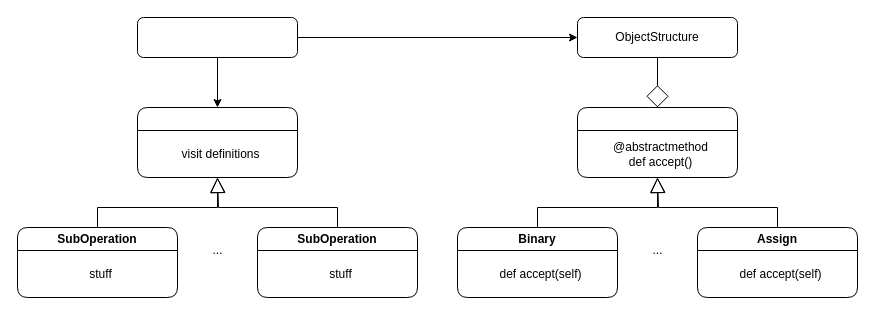
This 875x315 diagram has some shape labels left out. Here are the shapes that lost their labels. From the top down, the box of each, then its label:
(136, 16, 298, 58): Client
(136, 106, 298, 178): Operation
(576, 106, 738, 178): Expr
